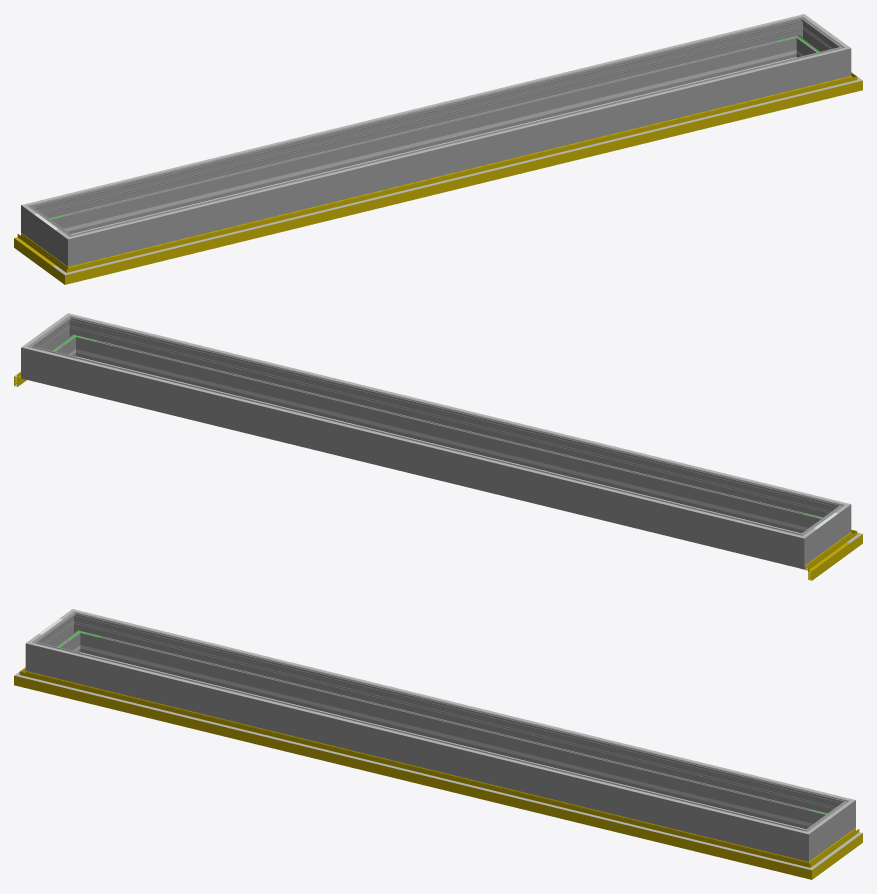
3 renders of one model, top to bottom at view 1: azimuth 30°, elevation 25°; view 2: azimuth 150°, elevation 25°; view 3: azimuth 330°, elevation 25°, orthographic.
Parts seen in each view (by area): view 1: 3DGeom-276, 3DGeom-298, 3DGeom-90, 3DGeom-244, 3DGeom-100, 3DGeom-316, 3DGeom-304, 3DGeom-270, 3DGeom-290, 3DGeom-268, 3DGeom-284, 3DGeom-85 (+3 smaller); view 2: 3DGeom-298, 3DGeom-276, 3DGeom-239, 3DGeom-304, 3DGeom-316, 3DGeom-278, 3DGeom-284, 3DGeom-85, 3DGeom-268, 3DGeom-290, 3DGeom-297, 3DGeom-270; view 3: 3DGeom-276, 3DGeom-298, 3DGeom-90, 3DGeom-244, 3DGeom-100, 3DGeom-316, 3DGeom-304, 3DGeom-290, 3DGeom-270, 3DGeom-297, 3DGeom-278, 3DGeom-97 (+3 smaller).
Part boxes in pixels (x1,y1,x2,y2): 3DGeom-276: (45,21,792,234); 3DGeom-298: (86,50,829,261); 3DGeom-90: (83,79,840,279); 3DGeom-244: (71,55,775,230); 3DGeom-100: (85,84,839,269); 3DGeom-316: (88,52,828,233); 3DGeom-304: (44,19,783,200); 3DGeom-270: (55,228,90,266); 3DGeom-290: (825,40,851,80); 3DGeom-268: (34,213,61,256); 3DGeom-284: (784,16,813,57); 3DGeom-85: (14,233,59,274); 3DGeom-298: (79,320,826,533); 3DGeom-276: (43,350,786,563); 3DGeom-239: (97,354,800,529); 3DGeom-304: (44,351,783,532); 3DGeom-316: (88,318,828,500); 3DGeom-278: (782,527,817,569); 3DGeom-284: (21,339,47,383); 3DGeom-85: (804,538,850,580); 3DGeom-268: (810,512,838,556); 3DGeom-290: (59,315,87,357); 3DGeom-297: (37,323,73,355); 3DGeom-270: (818,500,851,540); 3DGeom-276: (84,616,831,829); 3DGeom-298: (47,645,790,856); 3DGeom-90: (36,674,793,874); 3DGeom-244: (101,650,805,825); 3DGeom-100: (37,679,791,864); 3DGeom-316: (48,647,788,828); 3DGeom-304: (93,614,832,795); 3DGeom-290: (786,823,821,861); 3DGeom-270: (25,635,51,675); 3DGeom-297: (815,808,842,851); 3DGeom-278: (63,611,92,652); 3DGeom-97: (817,828,862,869).
Bounding box in the file's own units: 5.49 × 0.2667 × 0.6096.
